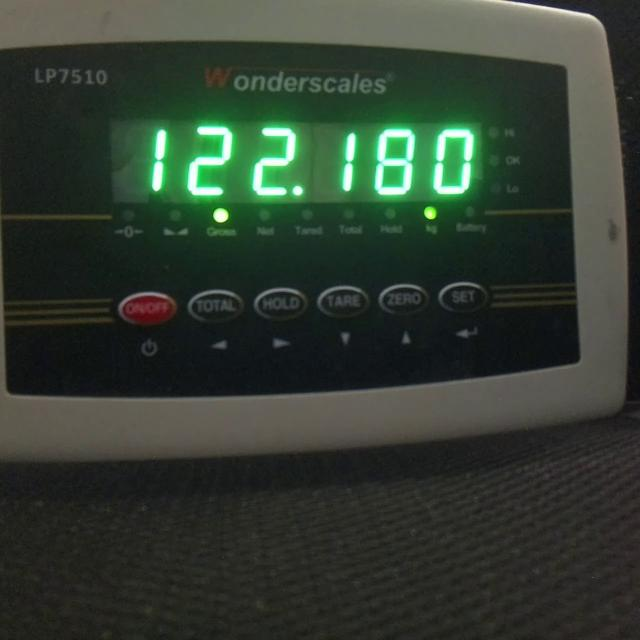.: (292, 185, 304, 197)
0: (434, 128, 475, 195)
1: (150, 129, 167, 192), (342, 133, 356, 191)
2: (252, 127, 298, 196), (187, 126, 232, 196)
8: (372, 128, 414, 195)
